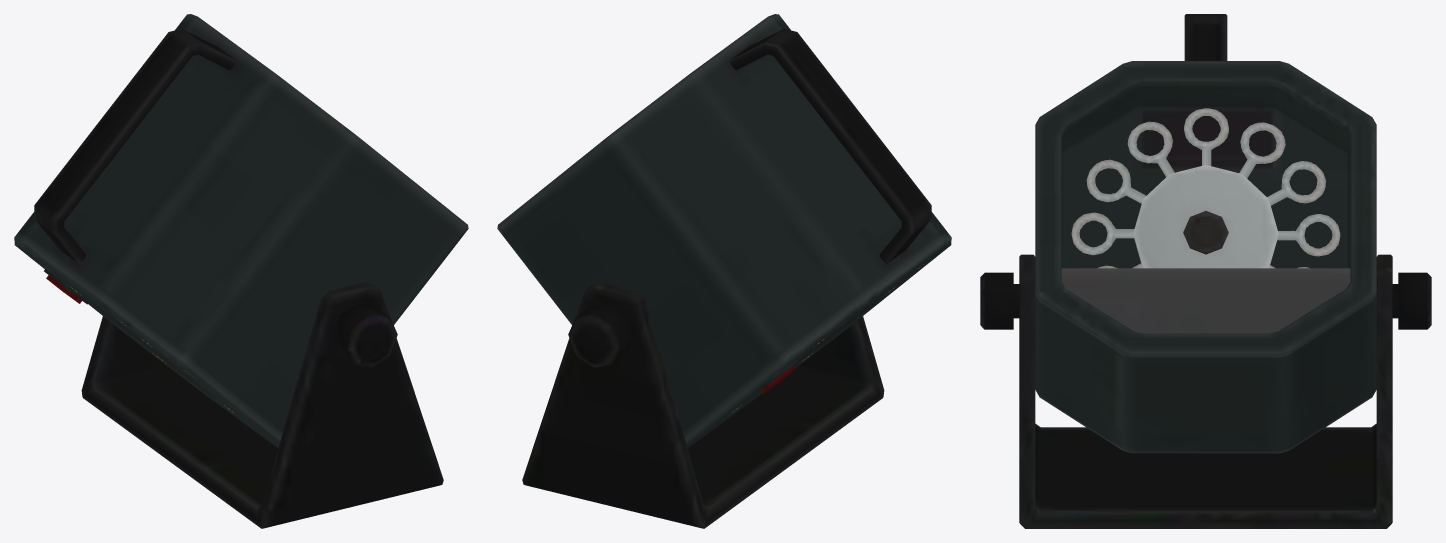
3 renders of one model, left to right at view 1: azimuth 30°, elevation 25°; view 2: azimuth 150°, elevation 25°; view 3: azimuth 270°, elevation 25°, orthographic.
Bounding box in the file's own units: 6.96 × 7.43 × 7.09.
1 material, 1 textured.
